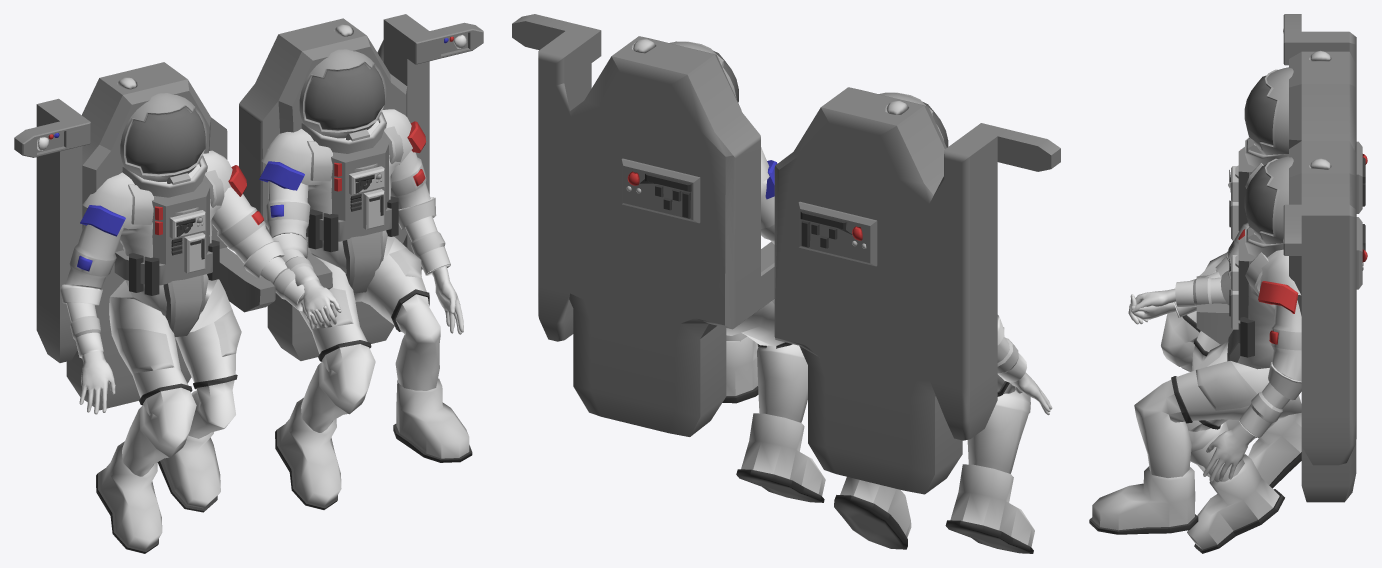
File: endAstronaut_triangulate.fbx
3 renders of one model, left to right at view 1: azimuth 30°, elevation 25°; view 2: azimuth 150°, elevation 25°; view 3: azimuth 270°, elevation 25°, orthographic. The views are drawn at different scales.
Visible parts, largest first — view 1: endAstronaut01, endAstronaut02_geo, endAstronaut02Backpack_geo; view 2: endAstronaut01, endAstronaut02Backpack_geo, endAstronaut02_geo; view 3: endAstronaut02_geo, endAstronaut02Backpack_geo, endAstronaut01.
Boxes of the visible parts, left/top/right/bottom form: endAstronaut01: left=14, top=62, right=340, bottom=553; endAstronaut02_geo: left=259, top=49, right=472, bottom=509; endAstronaut02Backpack_geo: left=239, top=14, right=483, bottom=360; endAstronaut01: left=774, top=87, right=1060, bottom=553; endAstronaut02Backpack_geo: left=512, top=14, right=774, bottom=436; endAstronaut02_geo: left=669, top=41, right=825, bottom=502; endAstronaut02_geo: left=1089, top=156, right=1301, bottom=553; endAstronaut02Backpack_geo: left=1196, top=141, right=1367, bottom=502; endAstronaut01: left=1130, top=14, right=1367, bottom=488.
Size of the model in its own units: 8.25 by 7.18 by 4.22.
